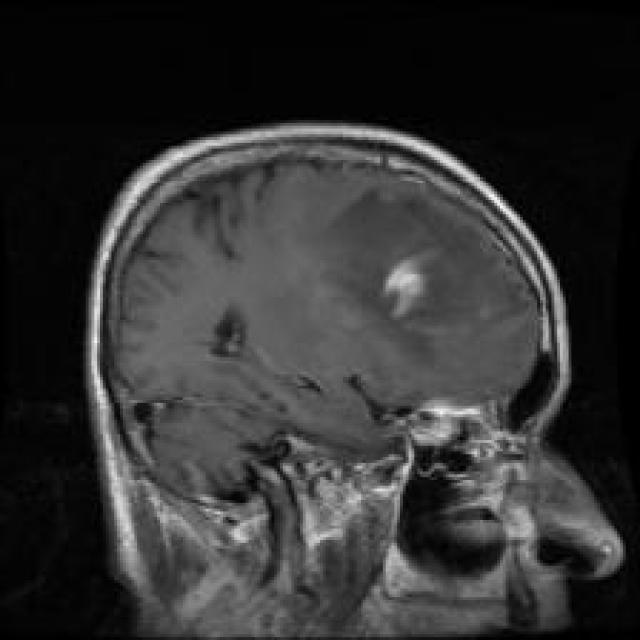glioma_tumor: (316, 175, 535, 340)
